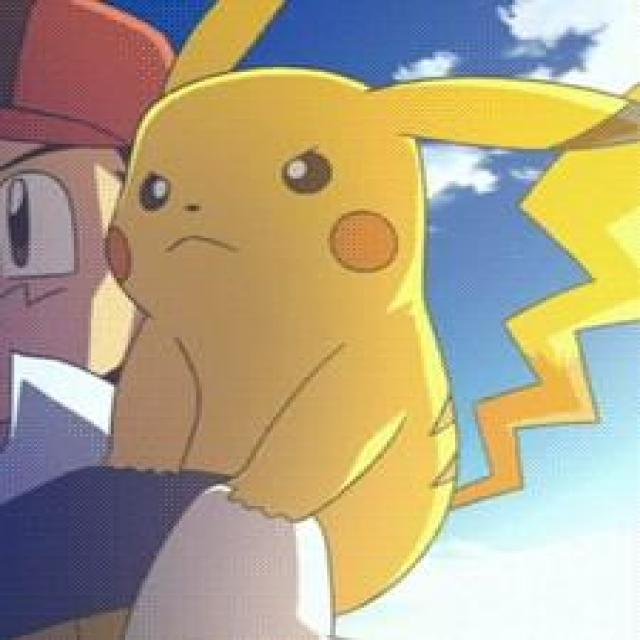pikachu: (105, 0, 637, 615)
